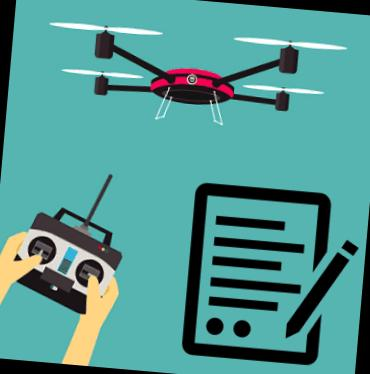drone: (32, 12, 362, 142)
